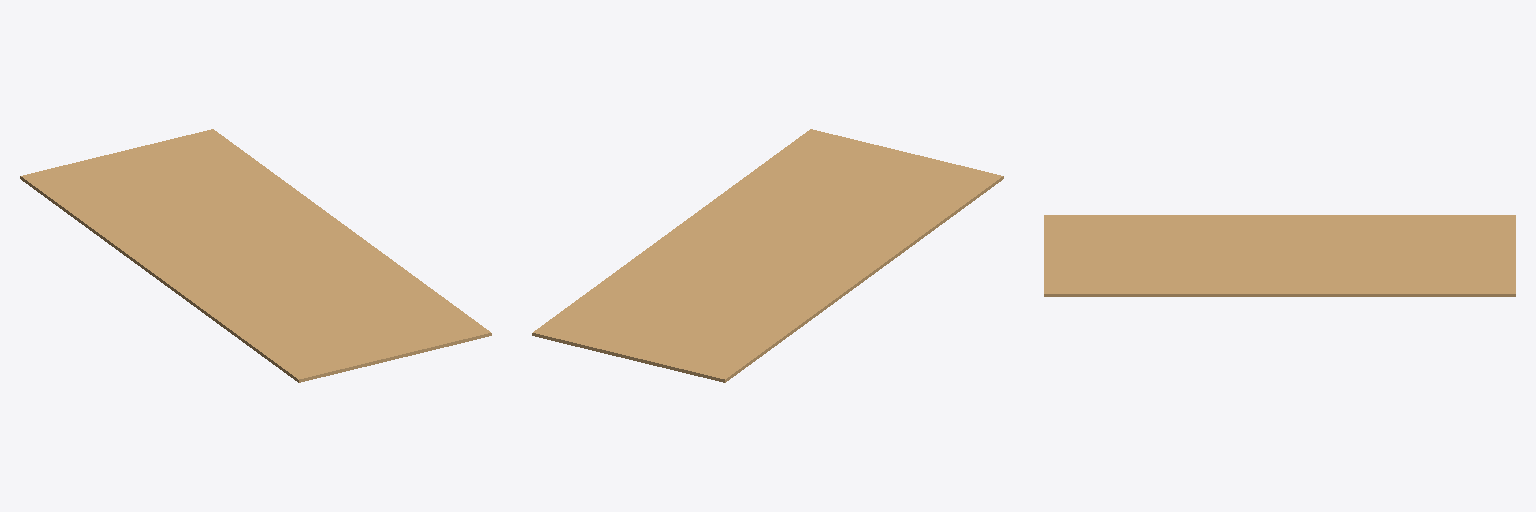
robot.urdf — simple_box:
<robot name="simple_box">
    
  <material name="wood">
    <color rgba="0.87  0.72 0.52 1"/>
  </material>

  <link name="nil_link">
    <inertial>
      <origin xyz="0 0 0" /> 
      <mass value="100.0" />
      <inertia ixx="1" ixy="0" ixz="0" iyy="1" iyz="0" izz="1"/>
    </inertial>
    <visual>
      <origin xyz="0 0 0"/>
      <geometry>
        <box size="0.6 1.5 0.01" />
      </geometry>
      <material name="wood"/>
    </visual>
    <collision>
      <origin xyz="0 0 0"/>
      <geometry>
        <box size="0.6 1.5 0.01" />
      </geometry>
    </collision>
  </link>
  <gazebo reference="nil_link">
    <material>Gazebo/Wood</material>
  </gazebo>
  <gazebo reference="nil_link">
    <kp>1400000.0</kp>
    <kd>280.0</kd>
    <fdir1>1 0 0</fdir1>
    <maxVel>10.0</maxVel>
    <minDepth>0.00</minDepth>
<!-- ToDO 摩擦を調整する -->
    <mu1>1.0</mu1>
    <mu2>1.0</mu2>
  </gazebo>
</robot>

--- What the picture shows (computed from the rendered views, not written in the file) ---
3 views of the same robot in one strip: view 1: azimuth 30°, elevation 25°; view 2: azimuth 150°, elevation 25°; view 3: azimuth 270°, elevation 25° (orthographic).
Model simple_box with 1 links and 0 joints (none), rooted at nil_link, posed all joints at 0.
Links seen in each view (by area): view 1: nil_link; view 2: nil_link; view 3: nil_link.
Boxes of the visible links, x1,y1,x2,y2 form: nil_link: (20, 129, 491, 382); nil_link: (532, 129, 1003, 382); nil_link: (1044, 215, 1515, 296).
Size in the robot's own frame: 0.6 by 1.5 by 0.01 metres.
Geometry: primitives only (box / cylinder / sphere), no mesh files.